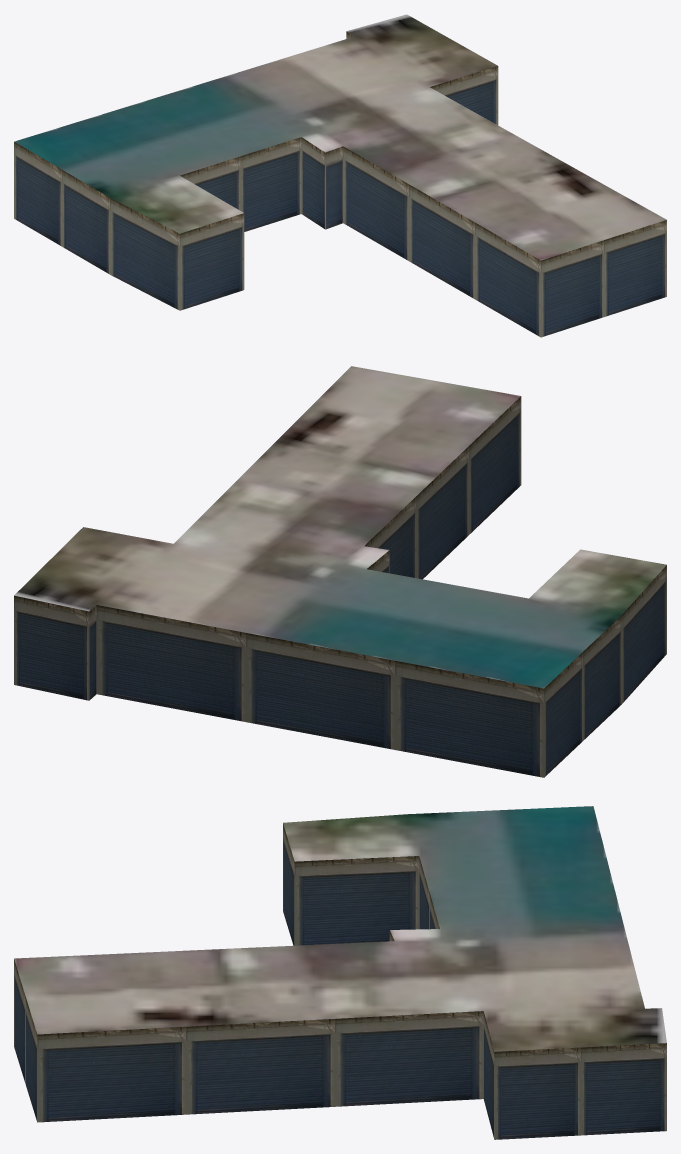
Rendered from T_1SVQR4NX9C.dae.
3 renders of one model, top to bottom at view 1: azimuth 30°, elevation 25°; view 2: azimuth 150°, elevation 25°; view 3: azimuth 270°, elevation 25°, orthographic. The views are drawn at different scales.
Parts seen in each view (by area): view 1: SketchUp (×10); view 2: SketchUp (×7); view 3: SketchUp (×8).
Part boxes in pixels (bbox=[...]): SketchUp (×10): bbox=[14, 14, 666, 337]; SketchUp (×7): bbox=[14, 366, 666, 777]; SketchUp (×8): bbox=[14, 806, 666, 1139].
Size of the model in its own units: 21.68 by 24.34 by 3.62.
Materials: 2 (2 with a texture image).
